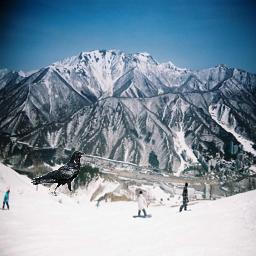Crow: (30, 151, 86, 196)
